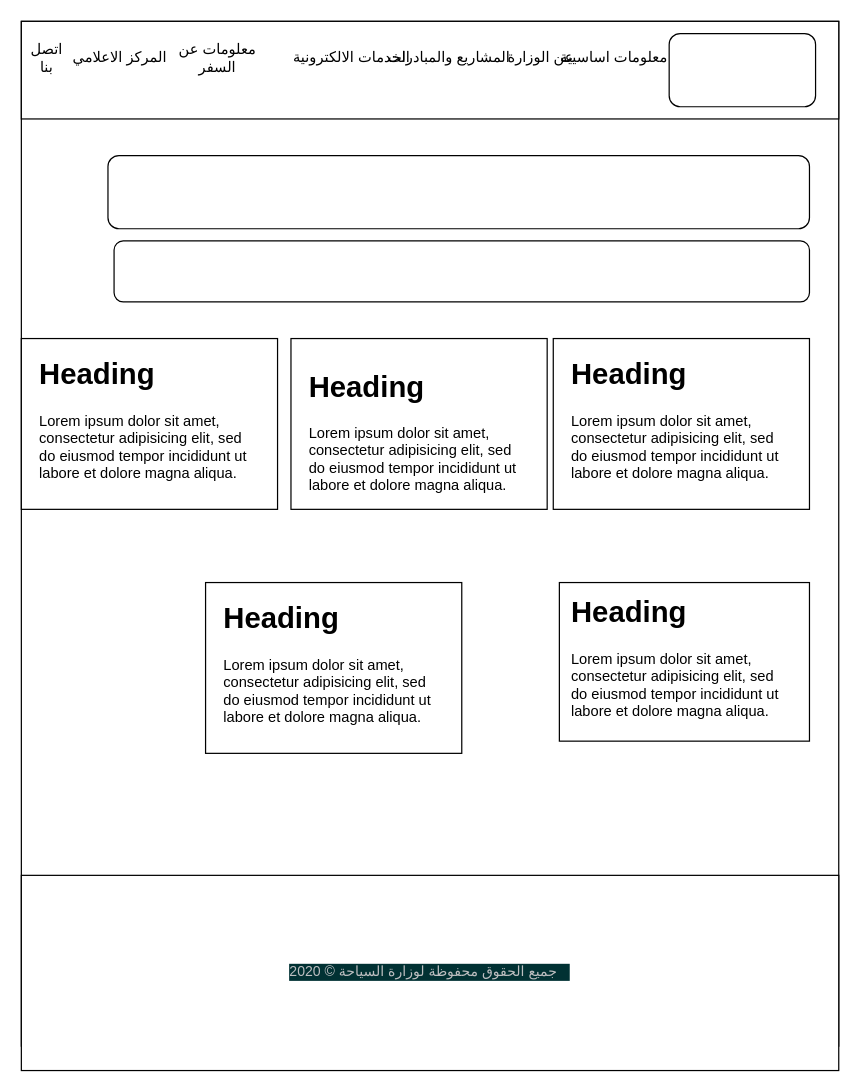
Some shapes in this 860 by 1092 pixel diagram are drawn without their labels. The centre of each missing label's shape, as x and y in pixels:
"Logo وزارة السياحة والاثار" goes at (x=742, y=69).
"المشاريع والمبادرات-الاستراتيجيات الوطنية" goes at (x=461, y=271).
"وزارة السياحة والاثار الاردنية/المشاريع والمبادرات" goes at (x=458, y=191).
